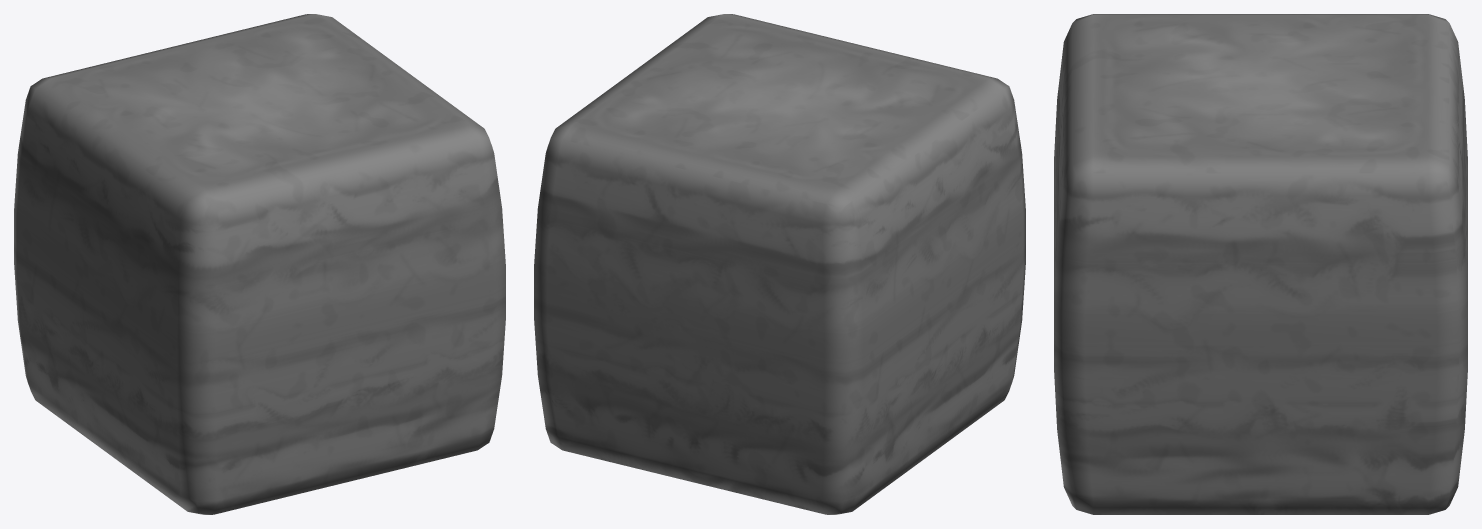
File: SM_MoveBlock.fbx
The picture shows the model from 3 angles, left to right: view 1: azimuth 30°, elevation 25°; view 2: azimuth 150°, elevation 25°; view 3: azimuth 270°, elevation 25°; orthographic projection. The views are drawn at different scales.
Visible parts, largest first — view 1: SM_MoveBlock; view 2: SM_MoveBlock; view 3: SM_MoveBlock.
Part boxes in pixels (x1,y1,x2,y2): SM_MoveBlock: (14, 14, 505, 514); SM_MoveBlock: (534, 14, 1025, 514); SM_MoveBlock: (1054, 14, 1467, 514).
Size of the model in its own units: 99.74 by 95 by 99.74.
